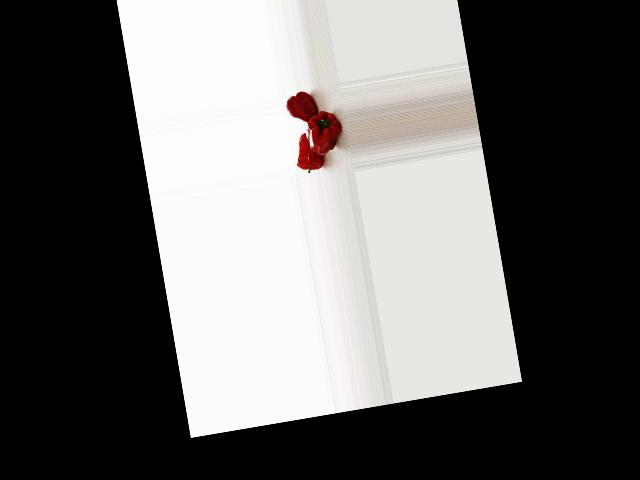bell_pepper: (283, 87, 320, 123)
